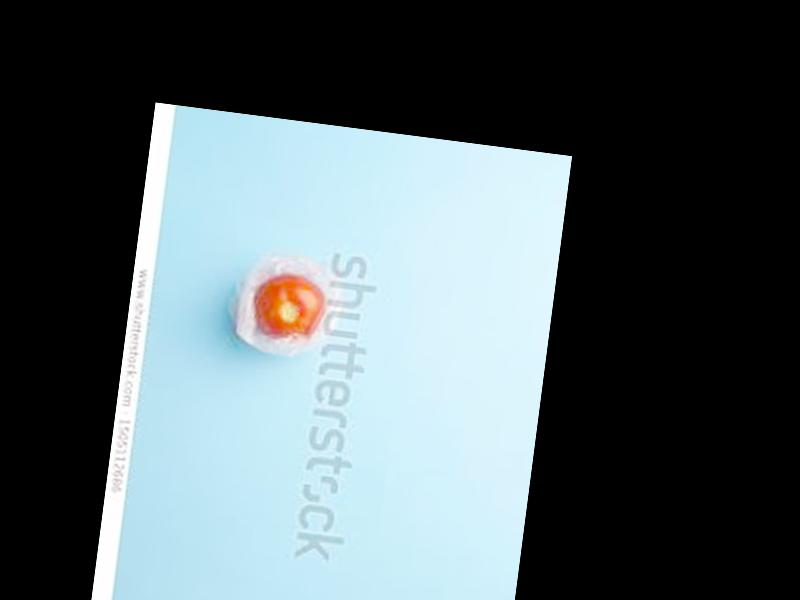Tomato: (251, 272, 328, 345)
